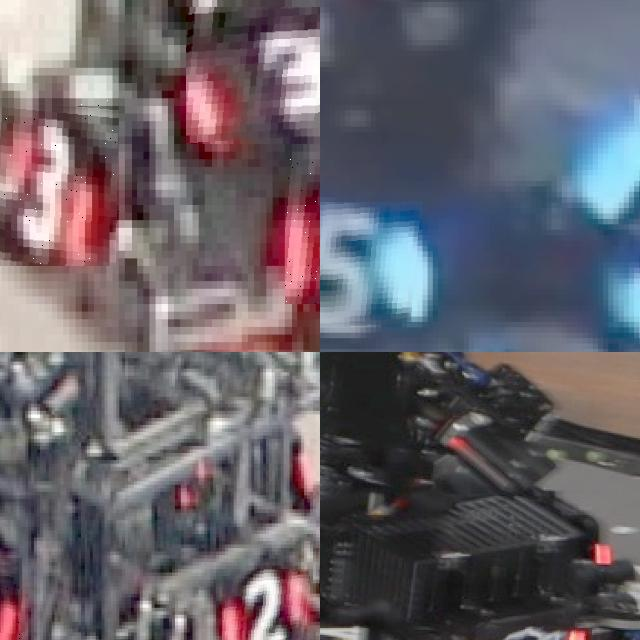B5: (320, 202, 422, 332)
R2: (222, 569, 310, 640), (0, 558, 22, 640)
R3: (0, 98, 118, 265), (186, 7, 320, 144), (285, 159, 320, 304)
